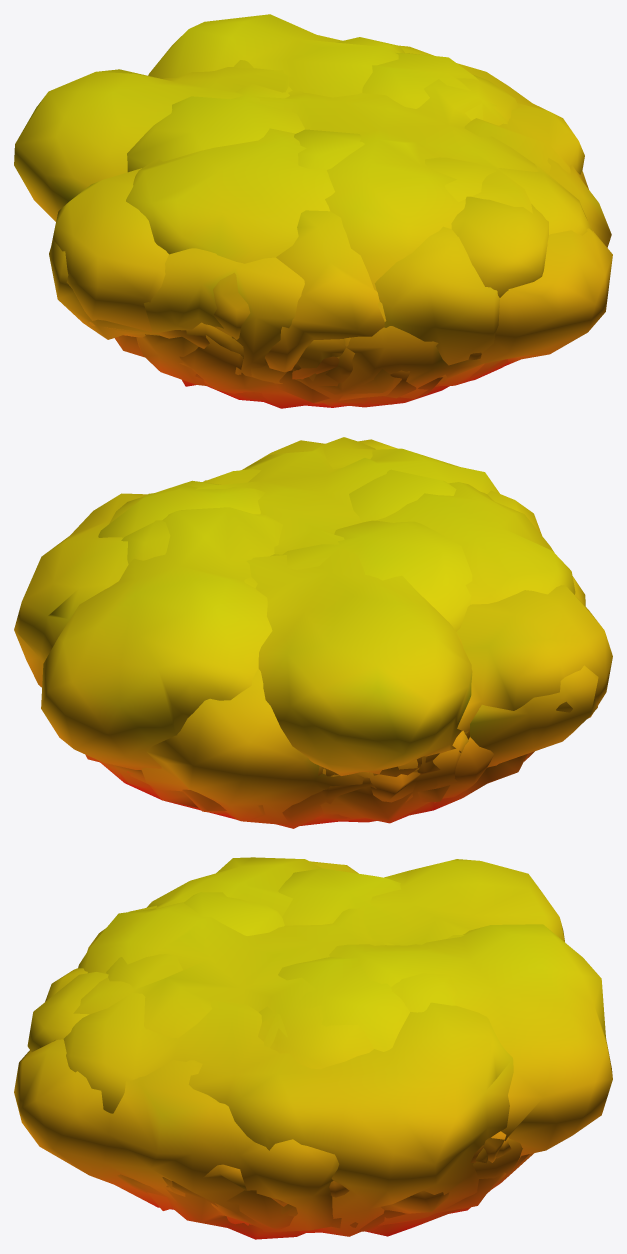
The model's file is sunfall-crowns.glb.
3 renders of one model, top to bottom at view 1: azimuth 30°, elevation 25°; view 2: azimuth 150°, elevation 25°; view 3: azimuth 270°, elevation 25°, orthographic. The views are drawn at different scales.
Visible parts, largest first — view 1: Crown0, Crown4, Crown2, Crown1, Crown5, Crown3; view 2: Crown4, Crown0, Crown3, Crown5, Crown2, Crown1; view 3: Crown5, Crown1, Crown0, Crown4, Crown3, Crown2.
Boxes of the visible parts, box(x1,y1,x2,y2) form: Crown0: box(14, 37, 548, 291); Crown4: box(51, 14, 398, 372); Crown2: box(126, 60, 548, 379); Crown1: box(114, 53, 612, 408); Crown5: box(49, 45, 592, 407); Crown3: box(127, 84, 507, 407); Crown4: box(41, 490, 612, 774); Crown0: box(109, 437, 499, 775); Crown3: box(98, 520, 534, 825); Crown5: box(14, 440, 598, 828); Crown2: box(127, 439, 575, 776); Crown1: box(85, 480, 527, 822); Crown5: box(63, 892, 534, 1236); Crown1: box(14, 957, 522, 1232); Crown0: box(53, 859, 564, 1162); Crown4: box(87, 861, 612, 1197); Crown3: box(45, 868, 529, 1239); Crown2: box(27, 857, 511, 1206).
Size of the model in its own units: 2.22 by 0.9821 by 2.25.
